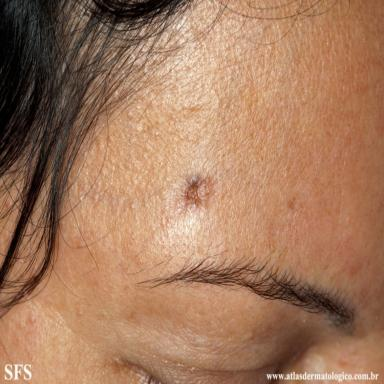basal-cell-carcinoma: (179, 173, 215, 212)
